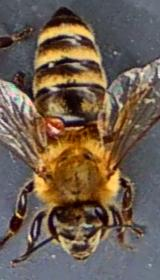varroa_mite: (40, 110, 70, 138)
